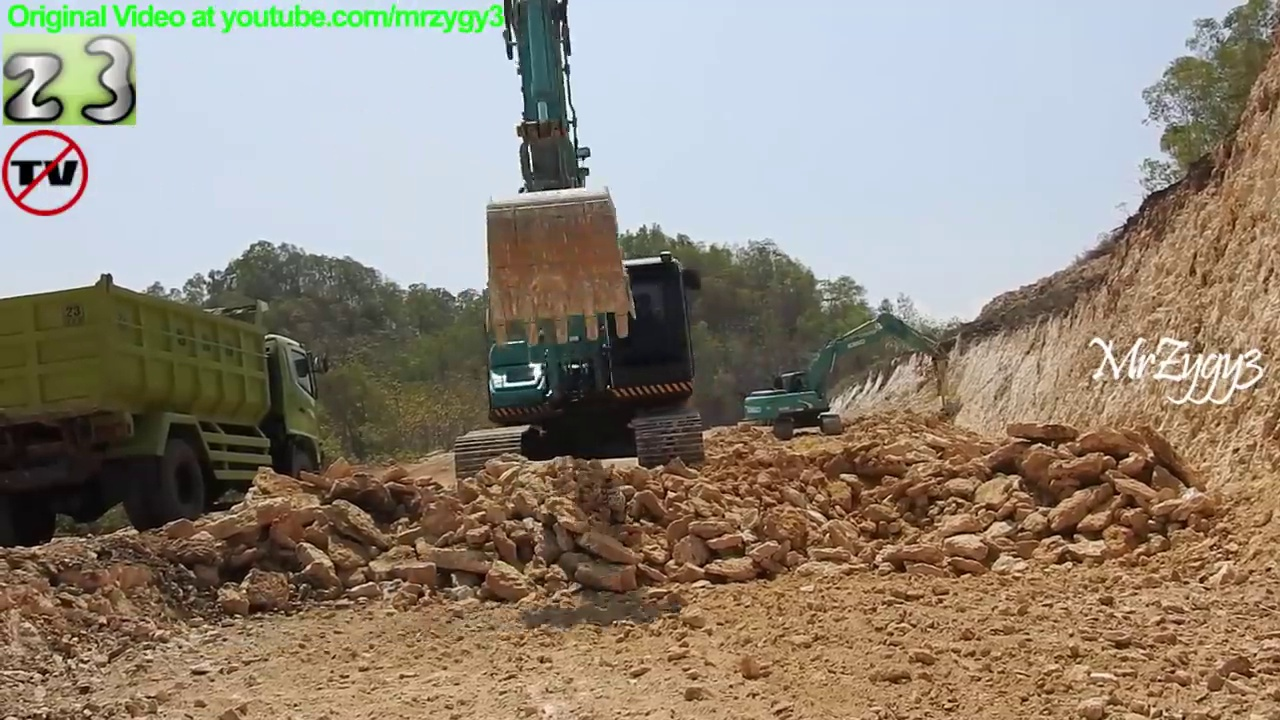excavator: (442, 1, 716, 503)
excavator breaker: (738, 309, 958, 443)
truck: (1, 269, 338, 552)
